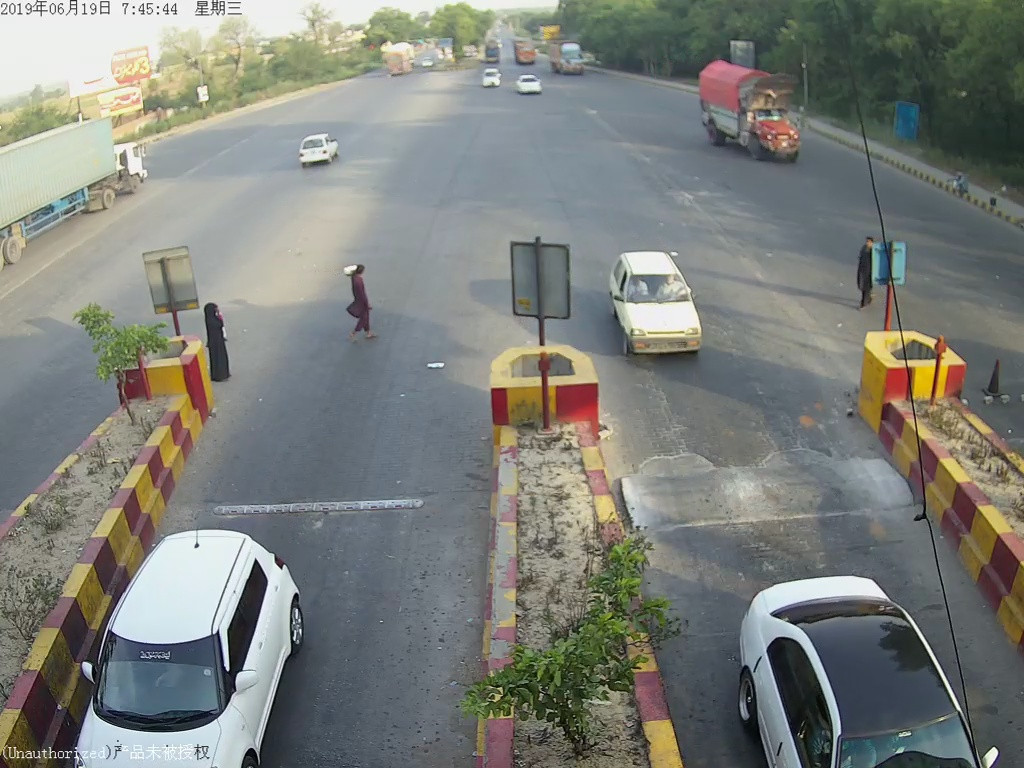Cat-1: (612, 249, 707, 356)
